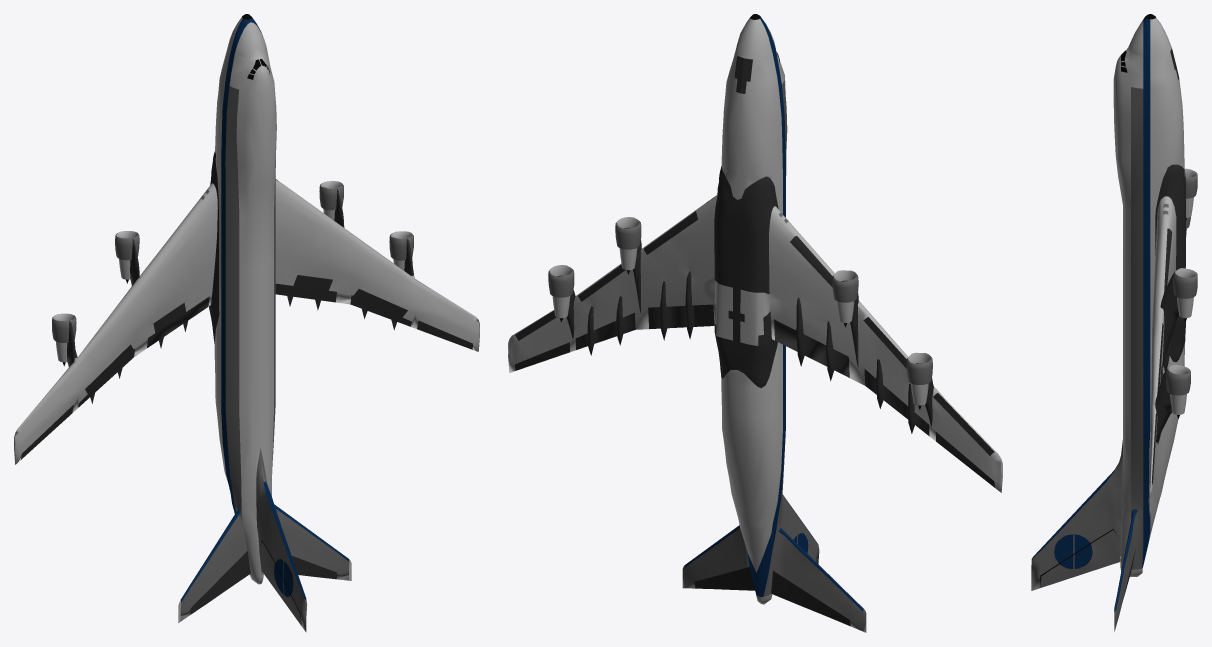
The picture shows the model from 3 angles, left to right: view 1: azimuth 30°, elevation 25°; view 2: azimuth 150°, elevation 25°; view 3: azimuth 270°, elevation 25°; orthographic projection. The views are drawn at different scales.
Parts seen in each view (by area): view 1: MAIN_FUSEL, UPPER_STRI, WING_BOX_A, LOGO___STR, RUDDER; view 2: MAIN_FUSEL, WING_BOX_A, UPPER_STRI, LOGO___STR; view 3: MAIN_FUSEL, UPPER_STRI, LOGO___STR, WING_BOX_A, RUDDER, BLACK_TRIM.
Boxes of the visible parts, bbox=[...] form: MAIN_FUSEL: bbox=[14, 17, 479, 622]; UPPER_STRI: bbox=[52, 86, 413, 632]; WING_BOX_A: bbox=[21, 151, 472, 614]; LOGO___STR: bbox=[180, 17, 349, 602]; RUDDER: bbox=[259, 541, 301, 625]; MAIN_FUSEL: bbox=[508, 18, 1002, 632]; WING_BOX_A: bbox=[515, 56, 994, 626]; UPPER_STRI: bbox=[548, 80, 932, 631]; LOGO___STR: bbox=[684, 17, 863, 611]; MAIN_FUSEL: bbox=[1113, 17, 1196, 631]; UPPER_STRI: bbox=[1031, 87, 1197, 630]; LOGO___STR: bbox=[1032, 17, 1150, 611]; WING_BOX_A: bbox=[1122, 48, 1185, 601]; RUDDER: bbox=[1040, 530, 1120, 587]; BLACK_TRIM: bbox=[1040, 14, 1186, 586].
Size of the model in its own units: 196 by 231 by 60.53.
